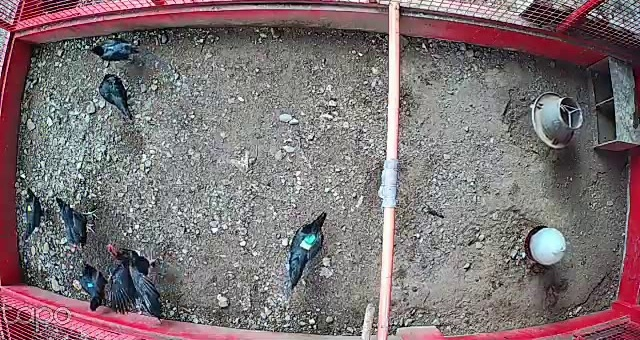Chicken: (284, 209, 329, 295), (53, 195, 99, 252), (74, 257, 114, 311), (95, 69, 138, 119), (88, 34, 147, 69), (18, 184, 49, 242)
Rooster: (99, 236, 182, 317)
Saddle_Color_Blue: (87, 281, 94, 287)
Saddle_Color_Yellow: (27, 204, 32, 211)
Saddle_Color_YellowGreen: (300, 232, 316, 253)
